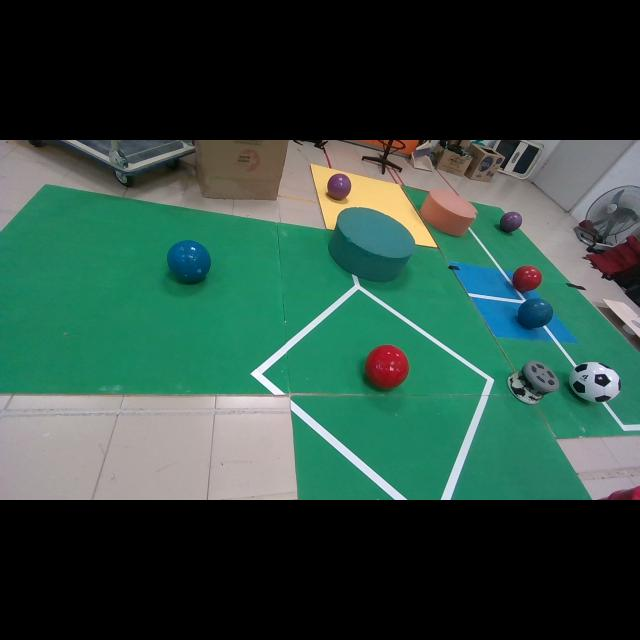B: (168, 240, 210, 282), (518, 299, 554, 328)
P: (328, 174, 351, 199), (500, 211, 522, 232)
R: (365, 345, 409, 389), (512, 265, 542, 292)
